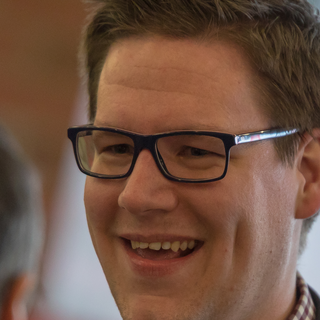eye: (96, 135, 135, 162), (176, 142, 220, 164)
